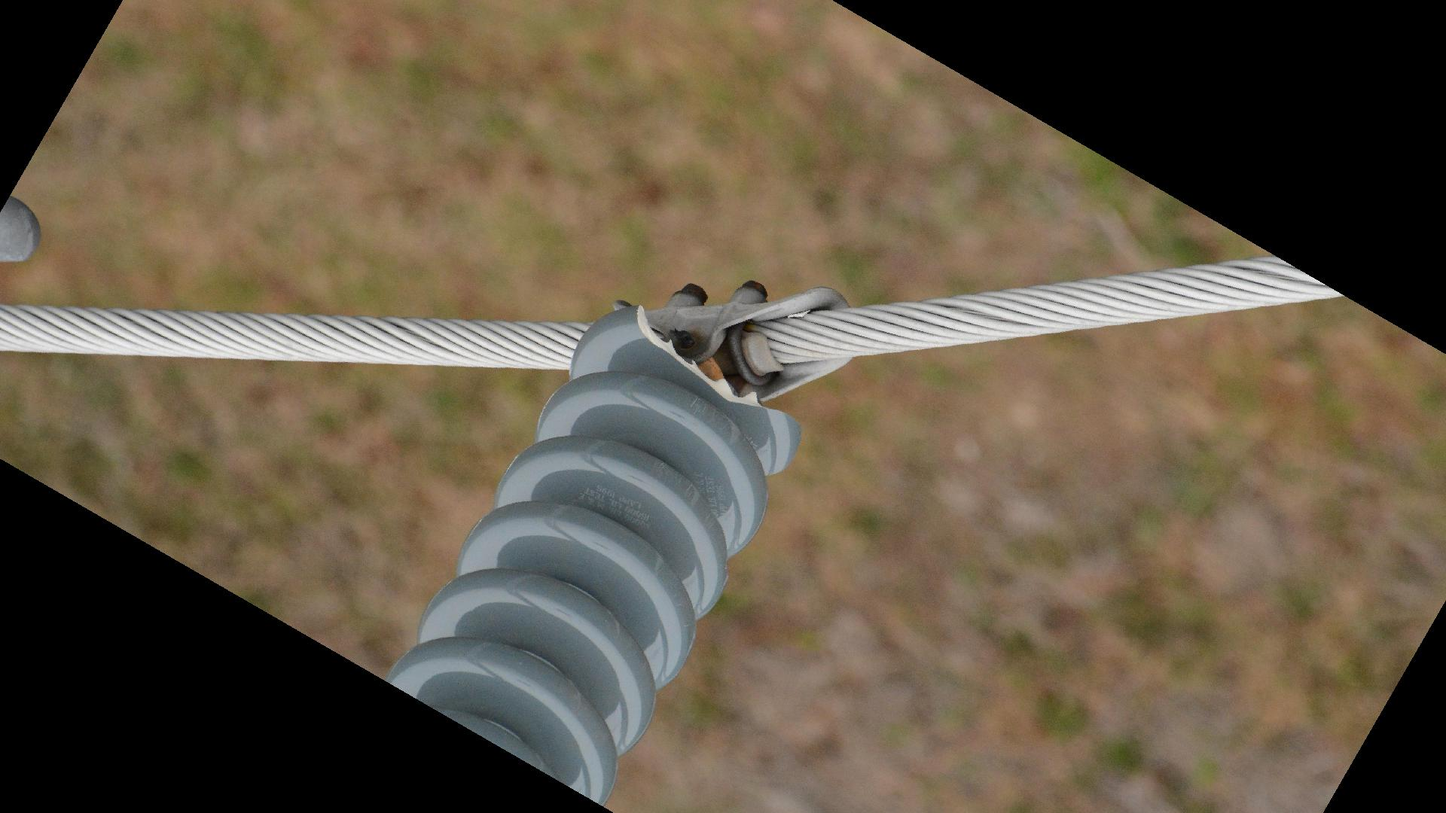insulator: (377, 295, 809, 808)
insulator_breakage: (625, 300, 804, 432)
